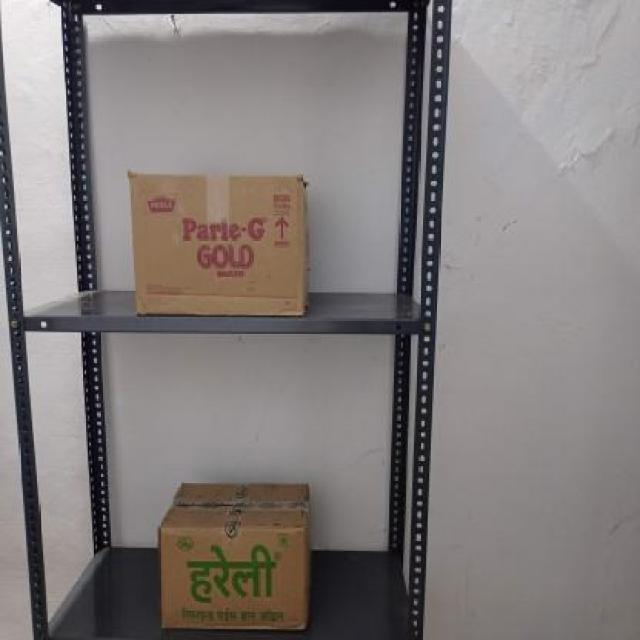box: (128, 169, 308, 317), (154, 527, 310, 633)
